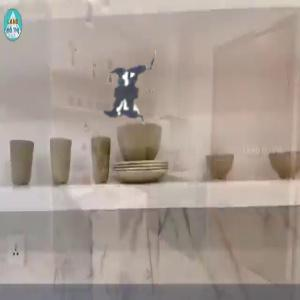drone: (59, 20, 207, 168)
